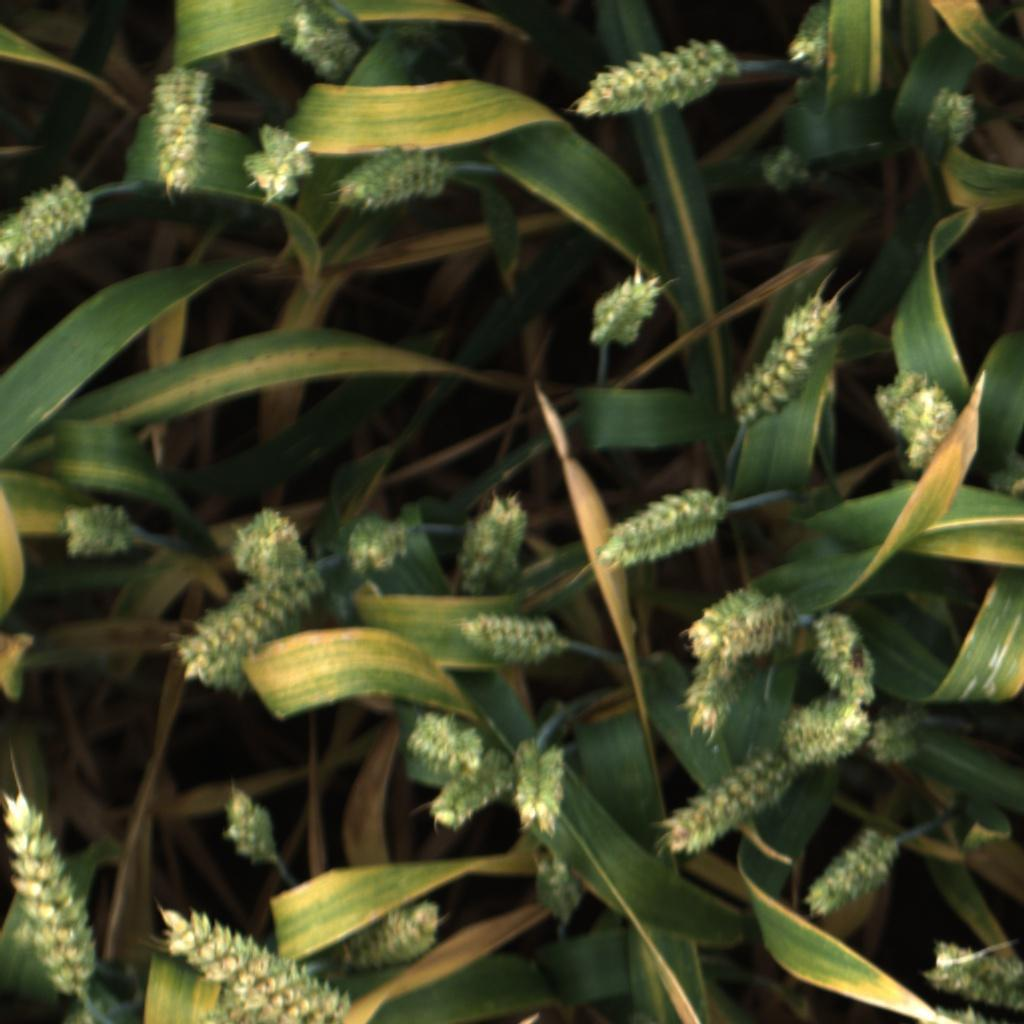0-0: (147, 904, 353, 1024), (170, 554, 326, 694), (5, 777, 101, 996), (658, 741, 804, 859), (727, 289, 841, 427), (571, 37, 740, 121), (1, 170, 102, 280), (597, 486, 724, 573), (143, 68, 216, 196), (801, 828, 899, 923), (333, 143, 461, 213), (680, 587, 795, 662), (918, 936, 1024, 1013), (428, 744, 517, 834), (455, 489, 531, 593), (678, 656, 765, 738), (284, 3, 370, 83), (781, 696, 876, 768), (240, 121, 320, 206), (354, 897, 445, 970), (814, 608, 883, 704), (456, 610, 563, 671), (584, 272, 663, 351), (228, 502, 308, 577), (512, 737, 569, 839), (401, 711, 484, 779), (895, 384, 957, 468), (219, 779, 276, 866), (871, 366, 938, 436), (530, 854, 591, 924), (59, 502, 131, 557), (864, 711, 923, 772), (349, 513, 408, 573), (921, 85, 976, 144), (192, 985, 268, 1024), (757, 143, 810, 195), (782, 13, 826, 72), (981, 450, 1024, 505), (57, 998, 114, 1024)
